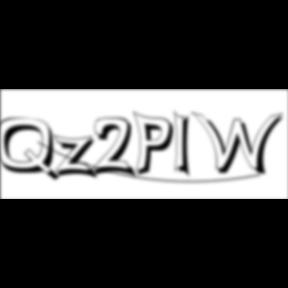2: (91, 117, 141, 181)
P: (134, 110, 180, 180)
Q: (0, 117, 64, 184)
W: (190, 110, 288, 178)
l: (174, 108, 198, 182)
z: (53, 134, 102, 182)
